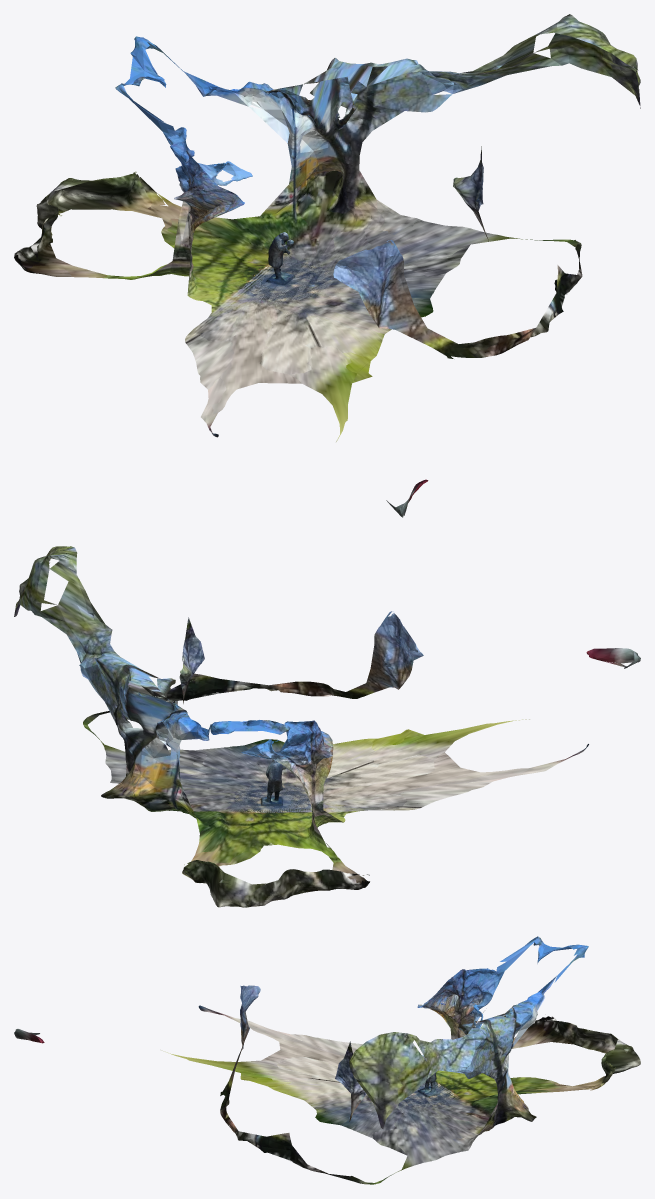
Rendered from man.glb.
3 views of the same model, one above another, from view 1: azimuth 30°, elevation 25°; view 2: azimuth 150°, elevation 25°; view 3: azimuth 270°, elevation 25° (orthographic). The views are drawn at different scales.
Parts seen in each view (by area): view 1: man; view 2: man; view 3: man.
Part boxes in pixels (box(x1,y1,x2,y2)): man: box(14, 14, 640, 517); man: box(14, 546, 640, 907); man: box(14, 936, 640, 1184).
Bounding box in the file's own units: 23.34 × 8.66 × 30.65.
Materials: 1 (1 with a texture image).
